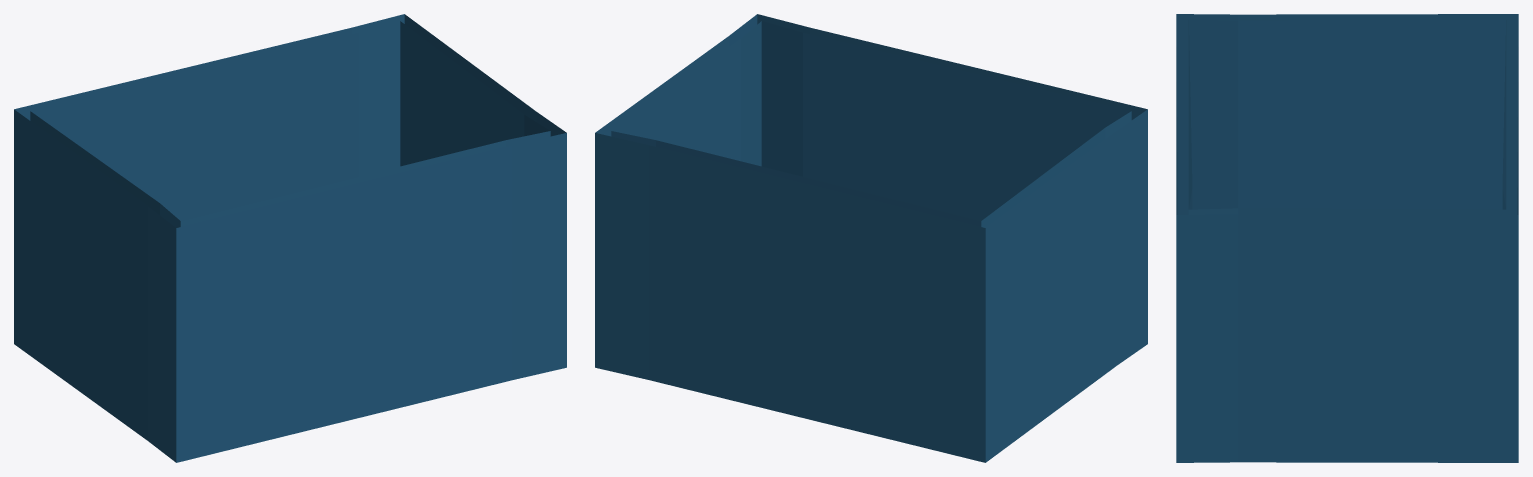
File: Building1_Middel.fbx
3 views of the same model, side by side, from view 1: azimuth 30°, elevation 25°; view 2: azimuth 150°, elevation 25°; view 3: azimuth 270°, elevation 25° (orthographic). The views are drawn at different scales.
Visible parts, largest first — view 1: Building1_Middel; view 2: Building1_Middel; view 3: Building1_Middel.
Boxes of the visible parts, box(x1,y1,x2,y2) form: Building1_Middel: box(14, 14, 566, 462); Building1_Middel: box(595, 14, 1147, 462); Building1_Middel: box(1176, 14, 1518, 462).
Size of the model in its own units: 210 by 121 by 151.
